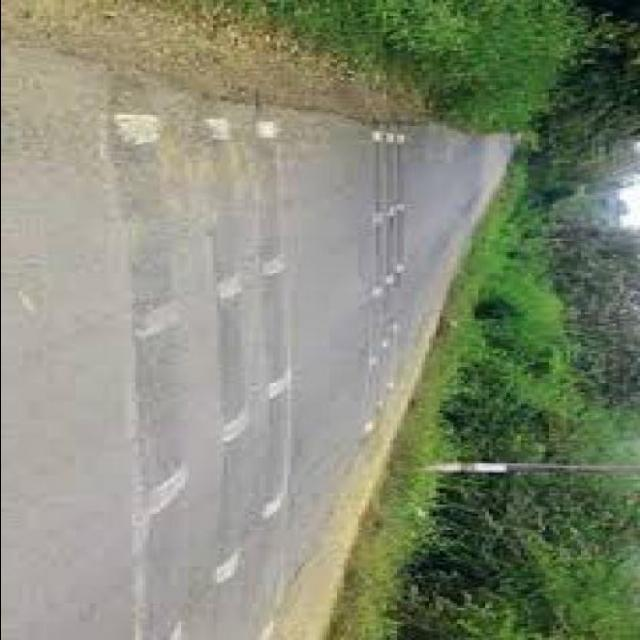Speed_Breaker: (92, 58, 309, 639), (105, 51, 300, 639), (355, 110, 410, 424), (358, 121, 414, 424)
